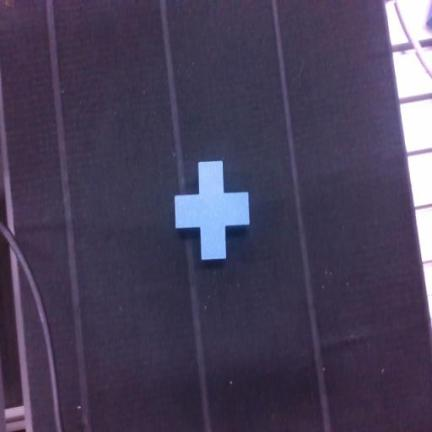cross: (174, 160, 249, 260), (175, 162, 249, 259)
